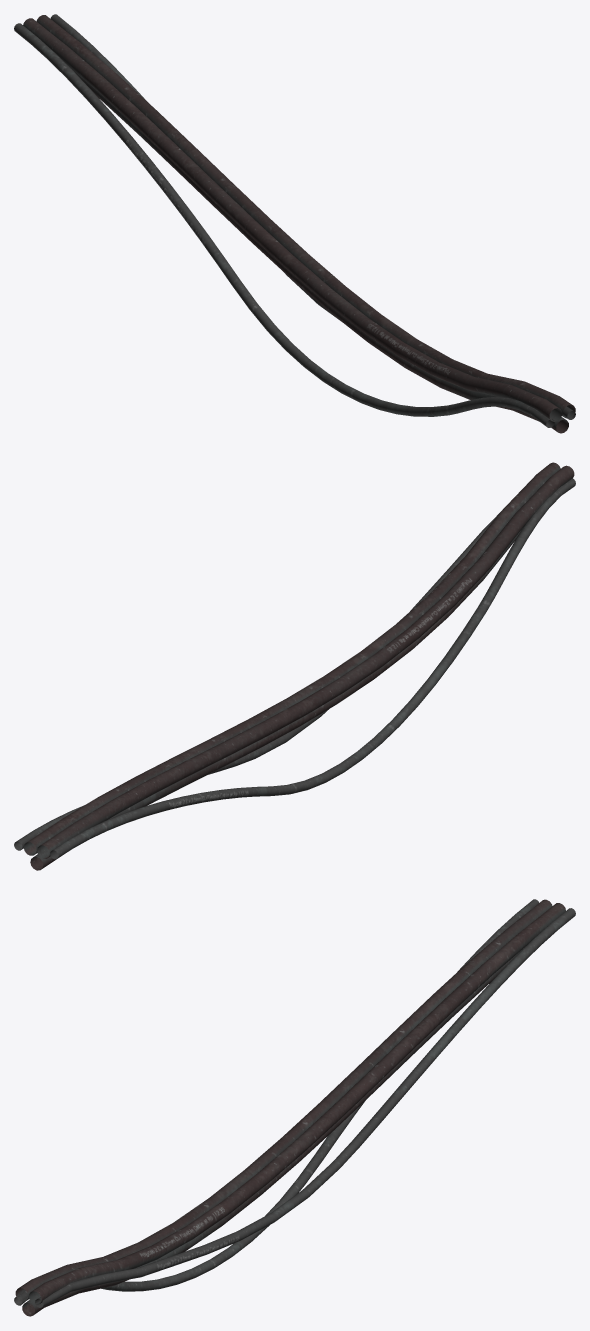
Rendered from SM_Cable_Set_02b.fbx.
3 views of the same model, one above another, from view 1: azimuth 30°, elevation 25°; view 2: azimuth 150°, elevation 25°; view 3: azimuth 330°, elevation 25° (orthographic).
Parts seen in each view (by area): view 1: SM_Cable_Set_02b_LOD0; view 2: SM_Cable_Set_02b_LOD0; view 3: SM_Cable_Set_02b_LOD0.
Boxes of the visible parts, x1,y1,x2,y2 form: SM_Cable_Set_02b_LOD0: (14,14,575,433); SM_Cable_Set_02b_LOD0: (14,462,575,870); SM_Cable_Set_02b_LOD0: (14,899,575,1316).
Size of the model in its own units: 9.84 by 200 by 28.59.
